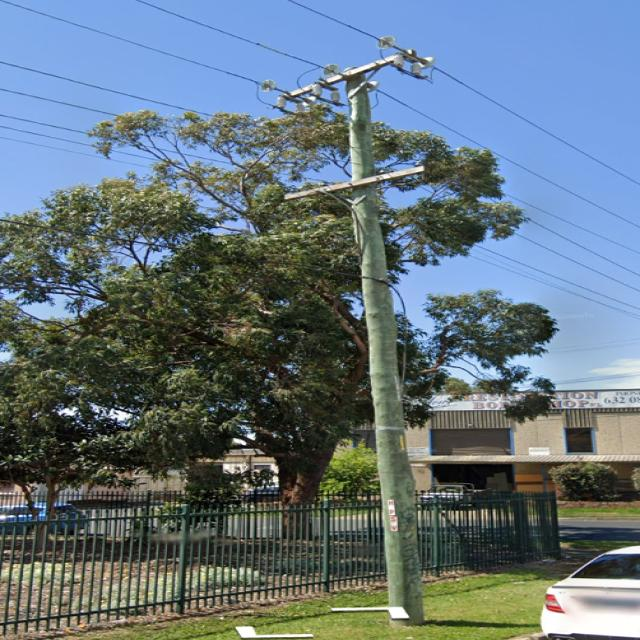HV-transmission: (255, 36, 437, 118)
crossarm: (284, 49, 417, 99), (282, 165, 426, 201)
timber-pole: (343, 68, 426, 623)
